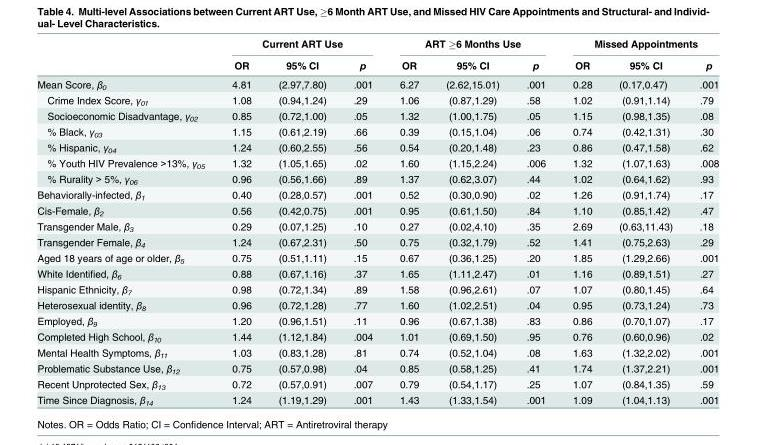table: (36, 37, 718, 406)
table column: (36, 37, 217, 406), (431, 37, 512, 406), (604, 37, 685, 406), (264, 37, 339, 406), (217, 37, 264, 406), (339, 37, 385, 406), (385, 37, 431, 406), (512, 37, 558, 406), (558, 37, 604, 406), (685, 37, 718, 406)
table column header: (36, 37, 718, 74)
table row: (36, 37, 718, 57), (36, 74, 718, 92), (36, 57, 718, 74), (36, 92, 718, 108), (36, 123, 718, 139), (36, 139, 718, 155), (36, 155, 718, 171), (36, 186, 718, 202), (36, 202, 718, 218), (36, 218, 718, 234), (36, 234, 718, 250), (36, 265, 718, 281), (36, 281, 718, 297), (36, 297, 718, 313), (36, 328, 718, 344), (36, 344, 718, 360), (36, 360, 718, 376), (36, 376, 718, 392), (36, 108, 718, 123), (36, 171, 718, 186), (36, 250, 718, 265), (36, 313, 718, 328), (36, 392, 718, 406)
table spanning cell: (385, 37, 558, 57), (217, 37, 385, 57), (558, 37, 718, 57)
